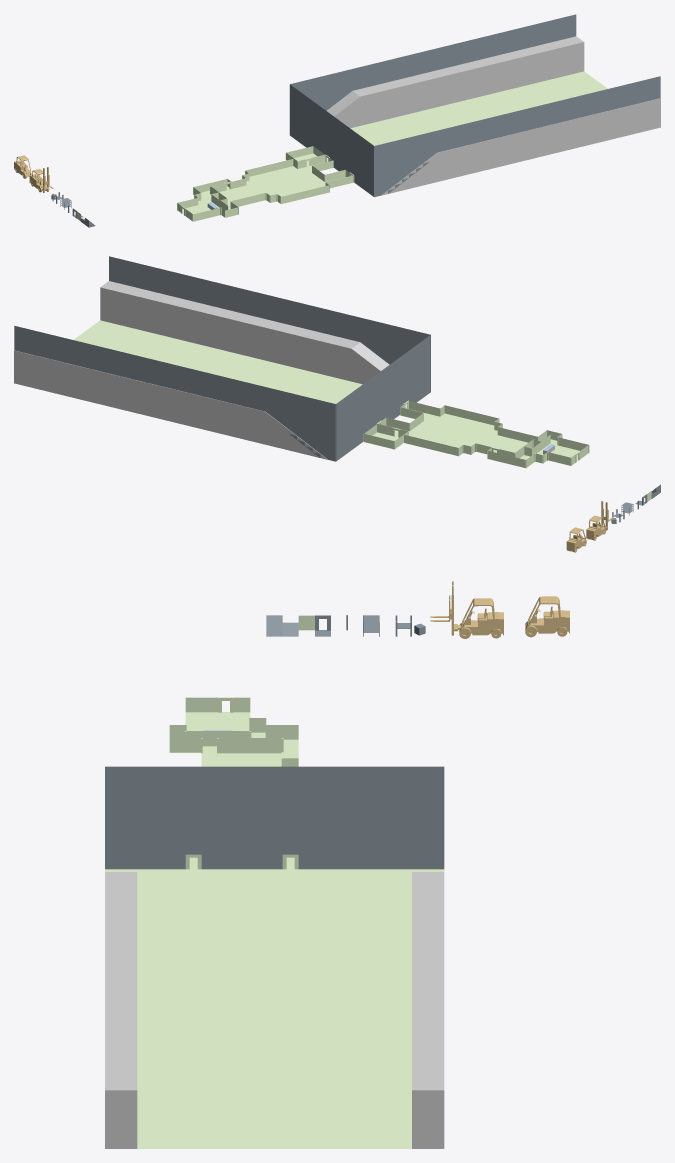
The model's file is warehouse.glb.
3 views of the same model, one above another, from view 1: azimuth 30°, elevation 25°; view 2: azimuth 150°, elevation 25°; view 3: azimuth 270°, elevation 25° (orthographic). The views are drawn at different scales.
Parts seen in each view (by area): view 1: Floor.331, GEEC_WarehouseRamp2, GEEC_WarehouseRamp1, WarehouseRamp2, WarehouseRamp1, GEEC_Forklift; view 2: Floor.331, GEEC_WarehouseRamp1, GEEC_WarehouseRamp2, WarehouseRamp1, WarehouseRamp2, GEEC_Forklift; view 3: Floor.331, GEEC_WarehouseRamp2, GEEC_WarehouseRamp1, WarehouseRamp2, WarehouseRamp1, GEEC_Forklift.
Part boxes in pixels (left/top/right/bottom): Floor.331: left=14, top=14, right=660, bottom=227; GEEC_WarehouseRamp2: left=327, top=36, right=584, bottom=128; GEEC_WarehouseRamp1: left=381, top=98, right=660, bottom=195; WarehouseRamp2: left=350, top=36, right=584, bottom=123; WarehouseRamp1: left=383, top=98, right=660, bottom=193; GEEC_Forklift: left=29, top=167, right=53, bottom=192; Floor.331: left=14, top=256, right=660, bottom=552; GEEC_WarehouseRamp1: left=100, top=281, right=389, bottom=384; GEEC_WarehouseRamp2: left=14, top=350, right=327, bottom=459; WarehouseRamp1: left=100, top=281, right=367, bottom=380; WarehouseRamp2: left=14, top=350, right=273, bottom=443; GEEC_Forklift: left=586, top=501, right=613, bottom=540; Floor.331: left=105, top=596, right=569, bottom=1148; GEEC_WarehouseRamp2: left=412, top=872, right=444, bottom=1148; GEEC_WarehouseRamp1: left=105, top=872, right=137, bottom=1148; WarehouseRamp2: left=412, top=872, right=444, bottom=1148; WarehouseRamp1: left=105, top=872, right=137, bottom=1148; GEEC_Forklift: left=430, top=581, right=503, bottom=638.
Bounding box in the file's own units: 76.06 × 7.14 × 28.79.
Materials: 4 (3 with a texture image).
